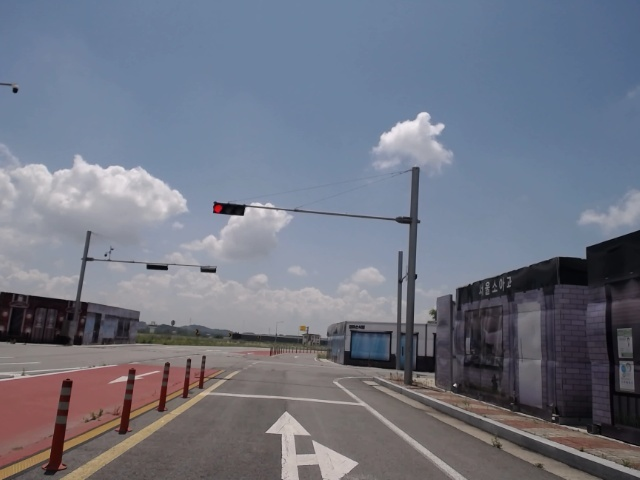red_3: (210, 201, 247, 216)
